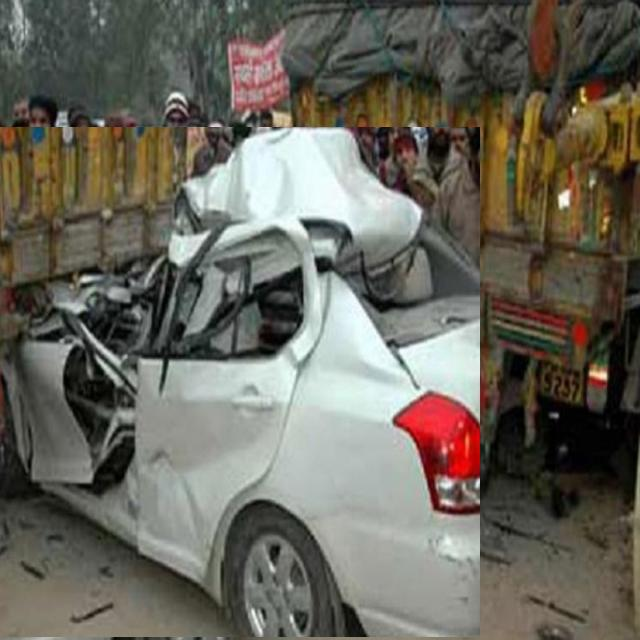accident: (0, 127, 480, 637)
truck: (282, 0, 640, 411)
